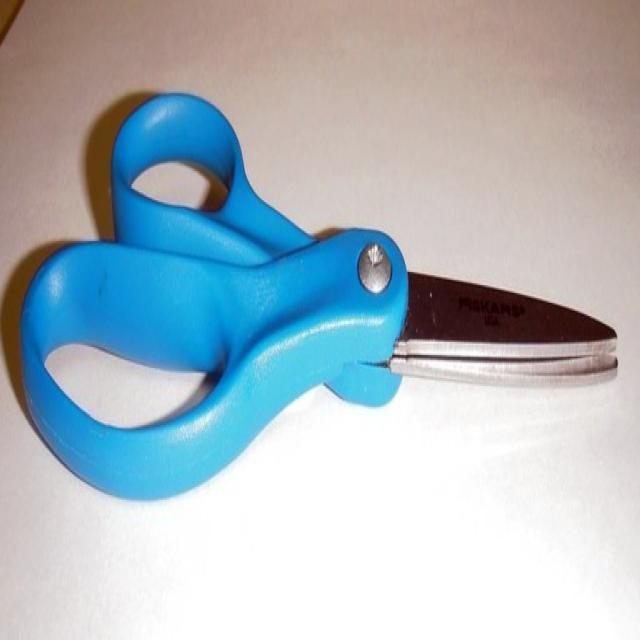scissors: (19, 90, 618, 502)
